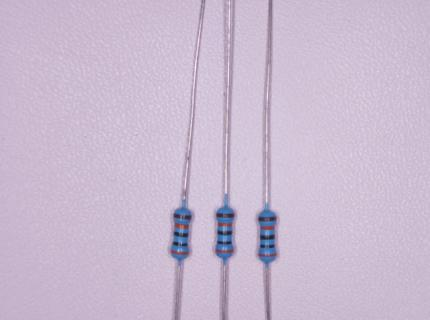Black band: (174, 231, 188, 237), (260, 235, 275, 240), (217, 240, 232, 245), (217, 230, 232, 235), (173, 241, 188, 246), (260, 244, 275, 248)
Brown band: (173, 213, 191, 219), (258, 216, 277, 221), (216, 213, 234, 218)
Orange band: (175, 222, 189, 229), (171, 250, 189, 255), (258, 253, 277, 257), (216, 249, 234, 253), (218, 222, 232, 227), (260, 226, 275, 230)
